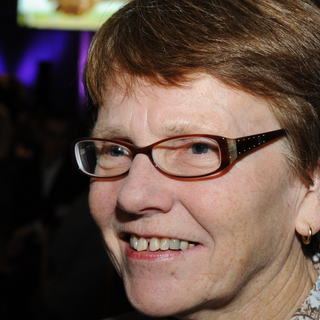eye: (176, 139, 221, 161), (99, 141, 138, 164)
